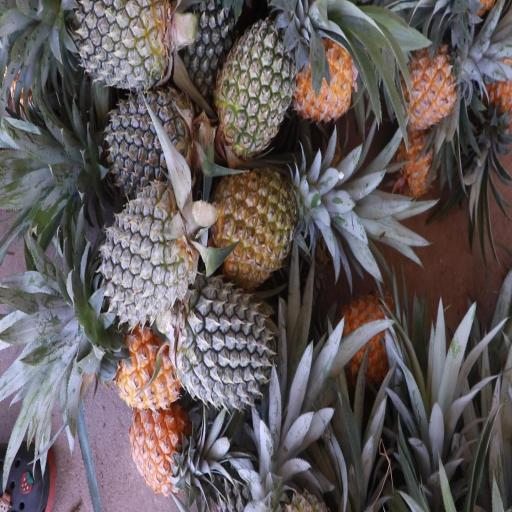------------------------------: (216, 21, 304, 154), (212, 167, 304, 280)
Pineapple - v8 v1: (108, 317, 181, 408), (291, 30, 356, 116), (128, 401, 192, 488), (341, 292, 396, 391), (397, 45, 458, 130)
